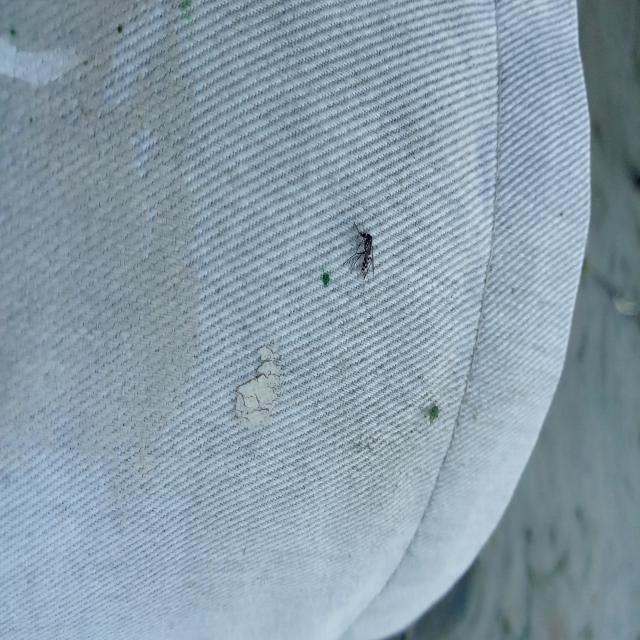albopictus: (316, 217, 384, 307)
